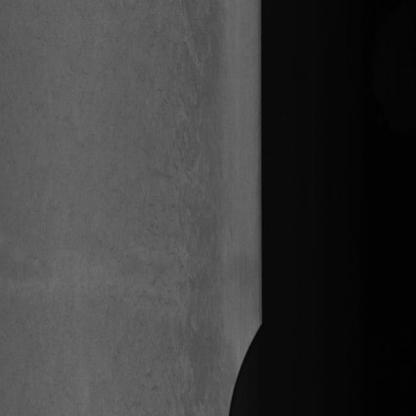crescent_gap: (220, 309, 278, 416)
